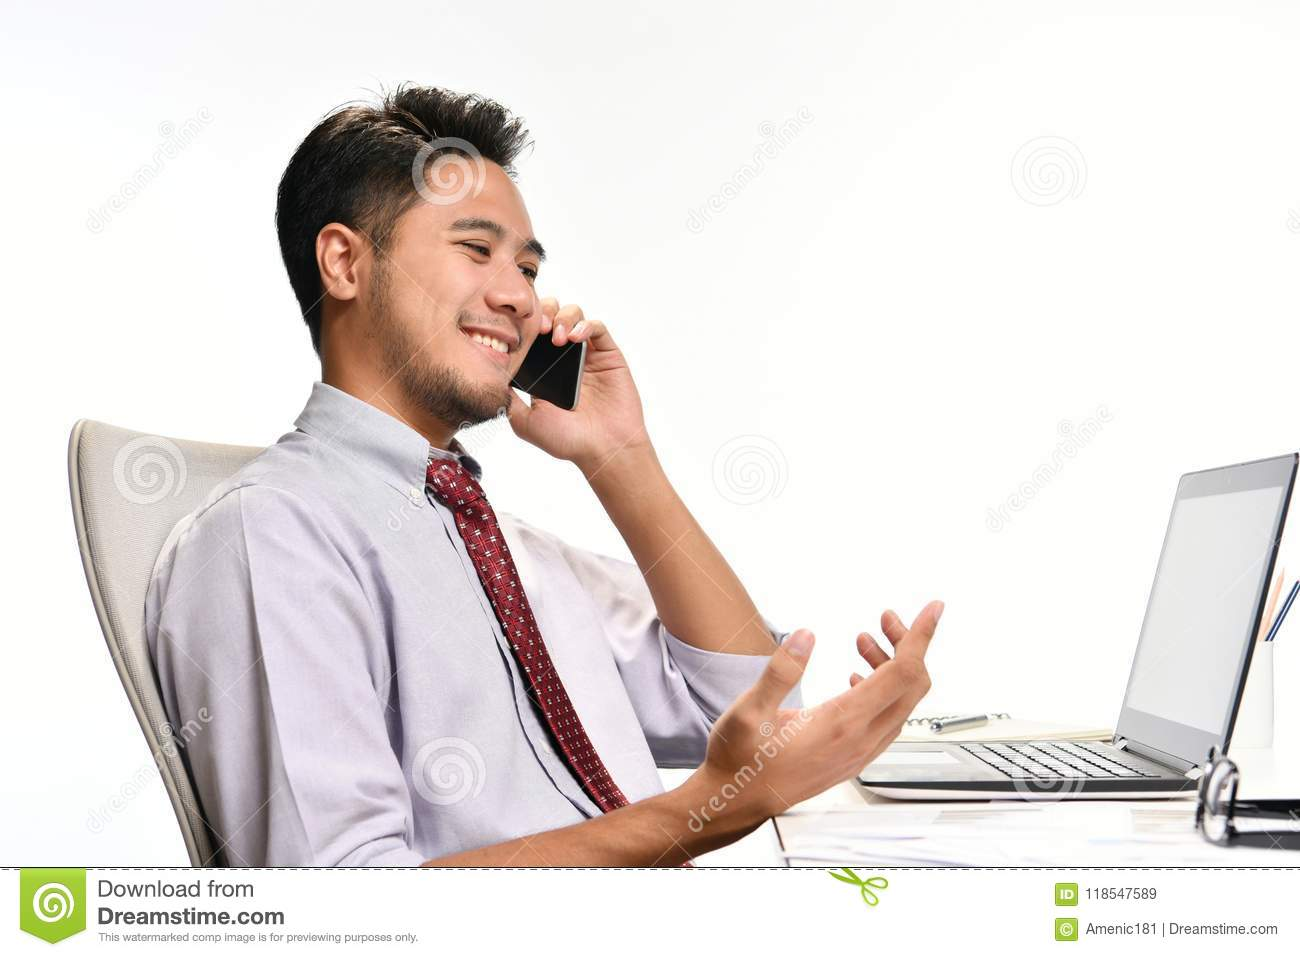phone: (511, 328, 592, 416)
talk: (435, 198, 647, 482)
